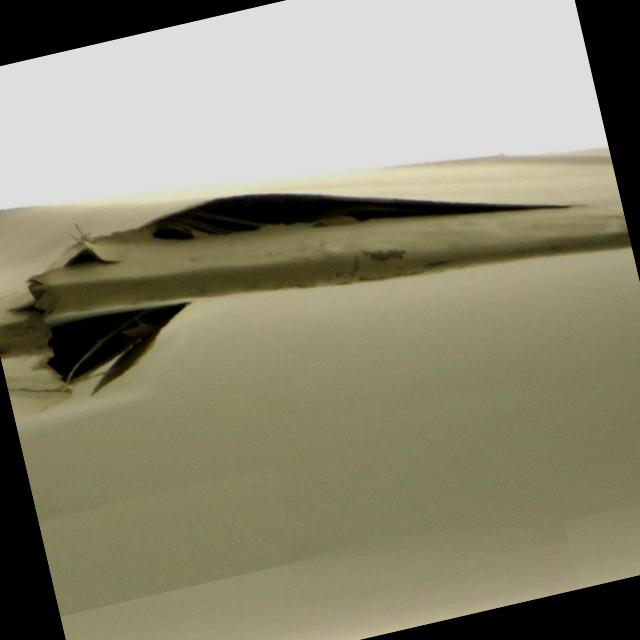crack: (0, 112, 571, 441)
